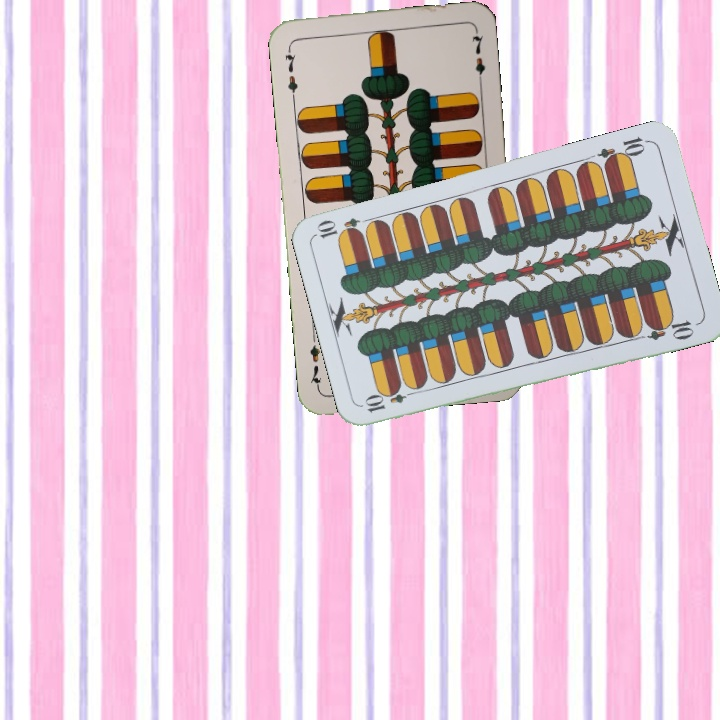E10: (594, 133, 652, 169), (361, 384, 420, 415)
E7: (280, 42, 300, 101)
